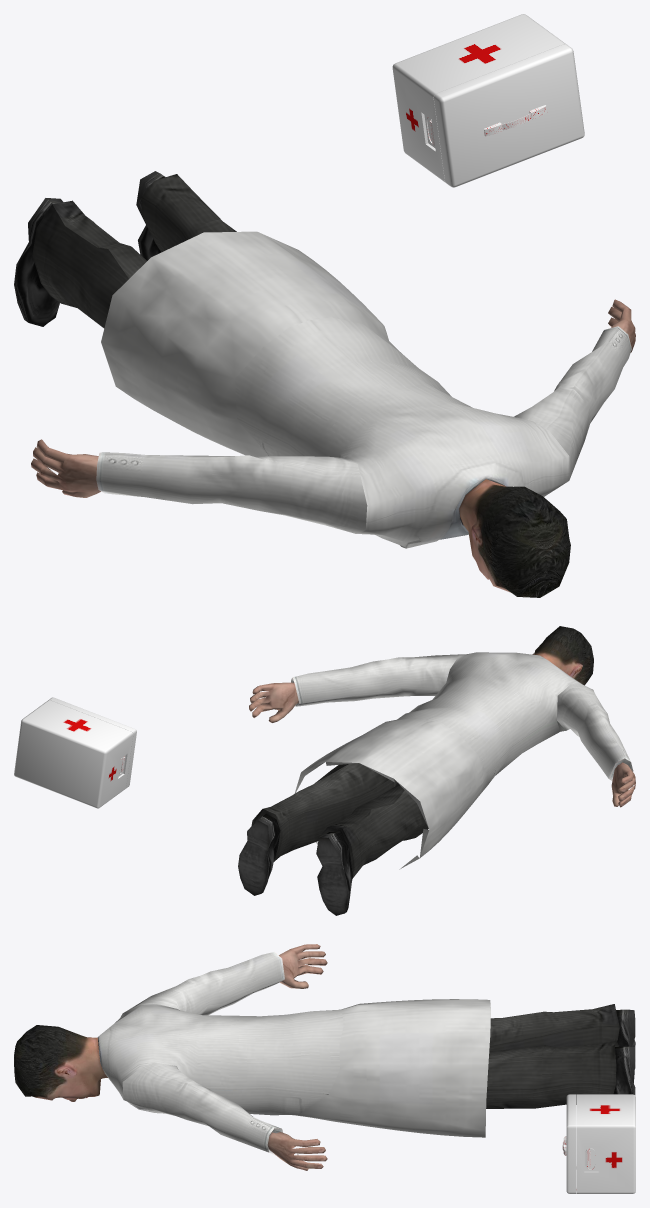
File: yisheng.glb
The picture shows the model from 3 angles, top to bottom: view 1: azimuth 30°, elevation 25°; view 2: azimuth 150°, elevation 25°; view 3: azimuth 270°, elevation 25°; orthographic projection. The views are drawn at different scales.
Parts seen in each view (by area): view 1: yisheng; view 2: yisheng; view 3: yisheng.
Part boxes in pixels (<box>): yisheng: <box>14,14,635,597</box>; yisheng: <box>14,626,635,915</box>; yisheng: <box>14,944,635,1193</box>.
Bounding box in the file's own units: 1.73 × 0.441 × 1.83.
2 materials, 2 textured.
